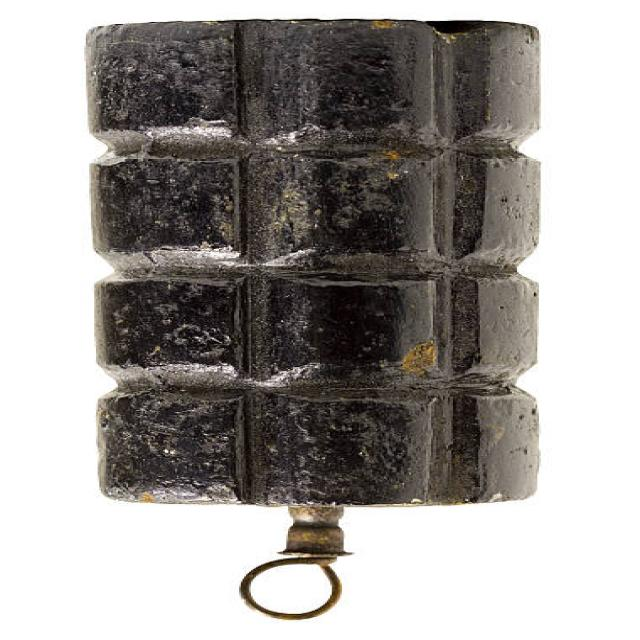grenade: (76, 18, 551, 624)
